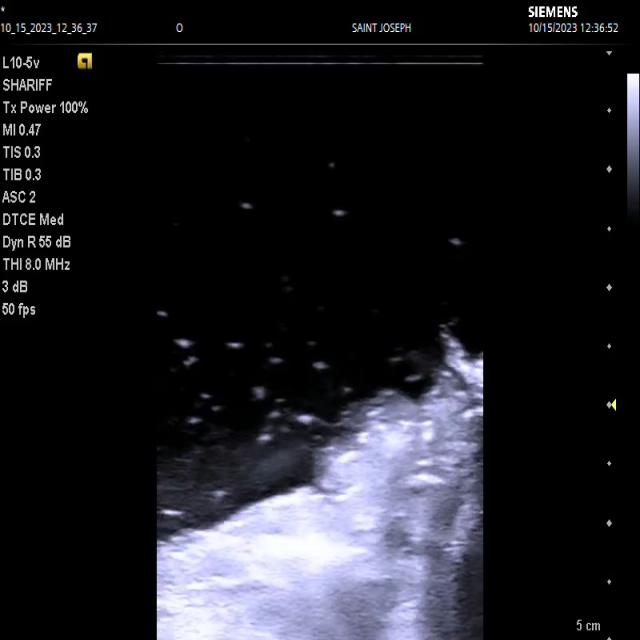tissue: (158, 336, 485, 640)
